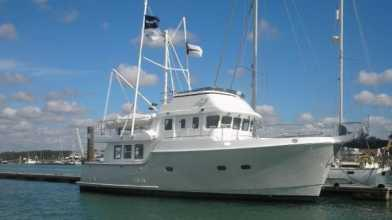yacht: (73, 76, 338, 197)
